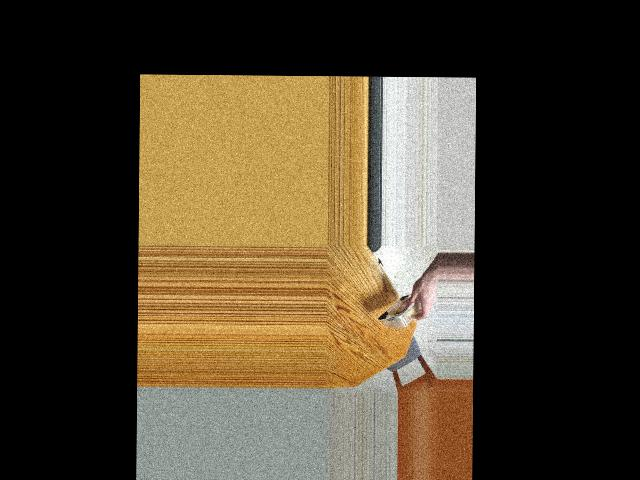cheese: (382, 288, 423, 338)
